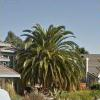Palm tree: (18, 18, 76, 87)
